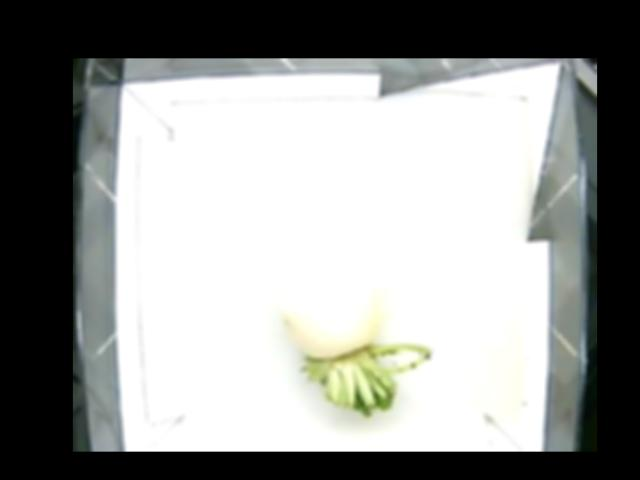Mooli: (280, 259, 425, 415)
